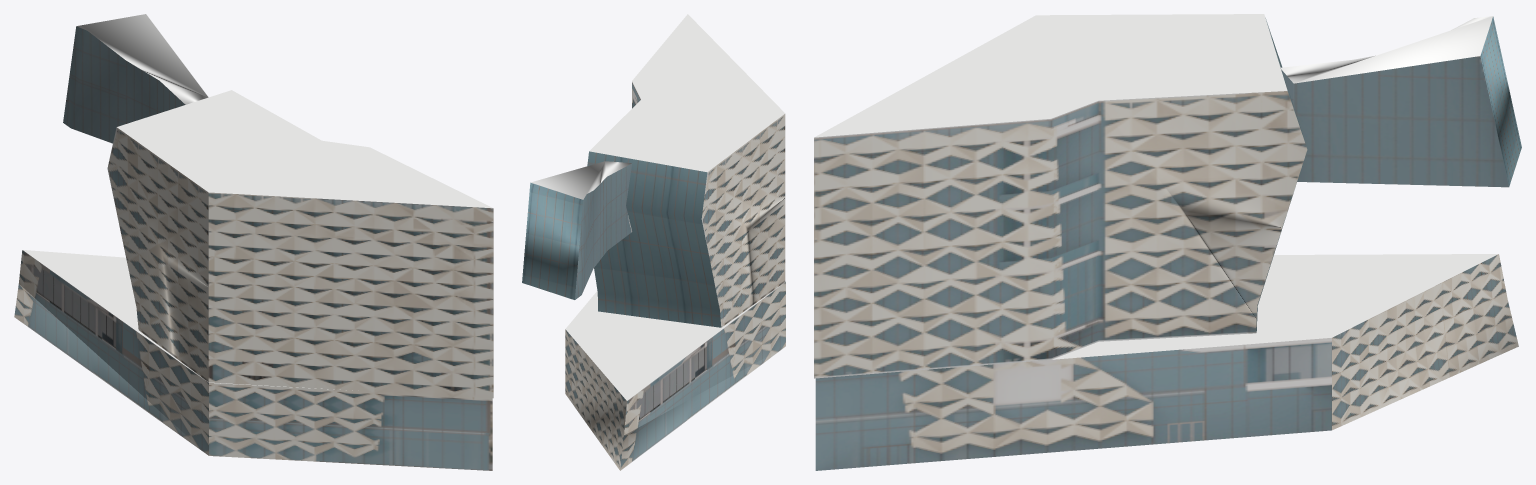
3 renders of one model, left to right at view 1: azimuth 30°, elevation 25°; view 2: azimuth 150°, elevation 25°; view 3: azimuth 270°, elevation 25°, orthographic. The views are drawn at different scales.
Parts seen in each view (by area): view 1: 111A.COPY; view 2: 111A.COPY; view 3: 111A.COPY.
Boxes of the visible parts, x1,y1,x2,y2 form: 111A.COPY: (14, 14, 493, 470); 111A.COPY: (522, 14, 785, 470); 111A.COPY: (814, 14, 1521, 470).
Size of the model in its own units: 34.07 by 46.18 by 81.7.
1 material, 1 textured.
